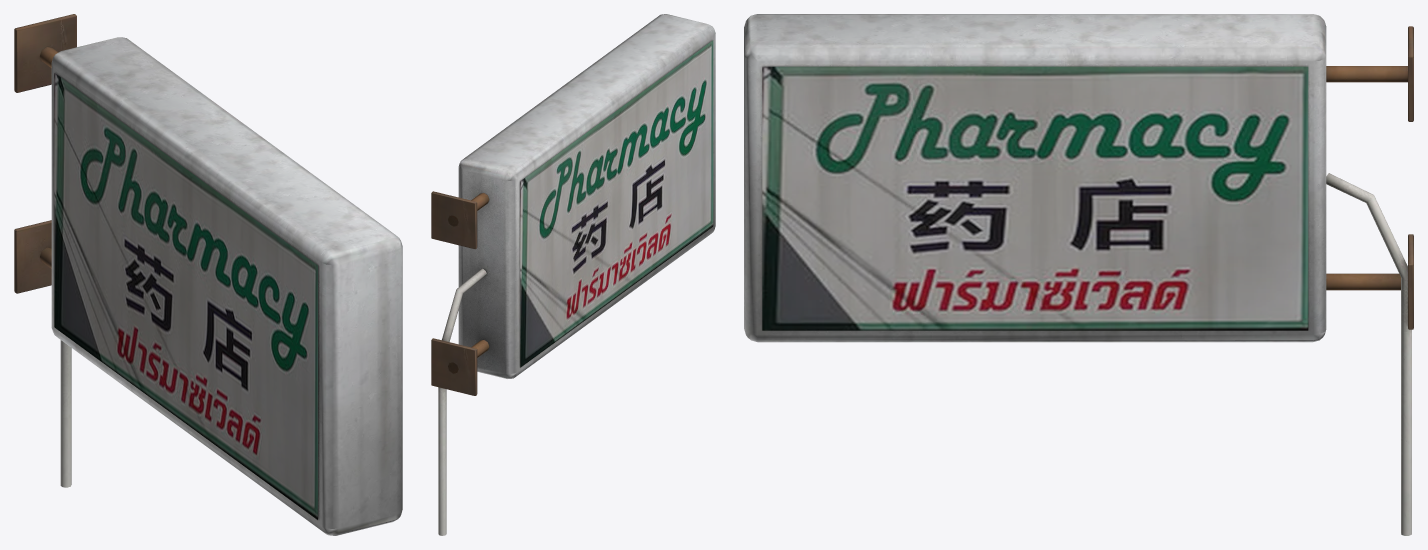
Rendered from signbox_pharmacy.glb.
The picture shows the model from 3 angles, left to right: view 1: azimuth 30°, elevation 25°; view 2: azimuth 150°, elevation 25°; view 3: azimuth 270°, elevation 25°; orthographic projection. The views are drawn at different scales.
Parts seen in each view (by area): view 1: signbox_pharmacy; view 2: signbox_pharmacy; view 3: signbox_pharmacy.
Part boxes in pixels (box(x1,y1,x2,y2)): signbox_pharmacy: box(14, 14, 402, 535); signbox_pharmacy: box(431, 14, 715, 535); signbox_pharmacy: box(744, 14, 1413, 535).
Bounding box in the file's own units: 0.134 × 0.75 × 0.92.
Materials: 1 (1 with a texture image).
